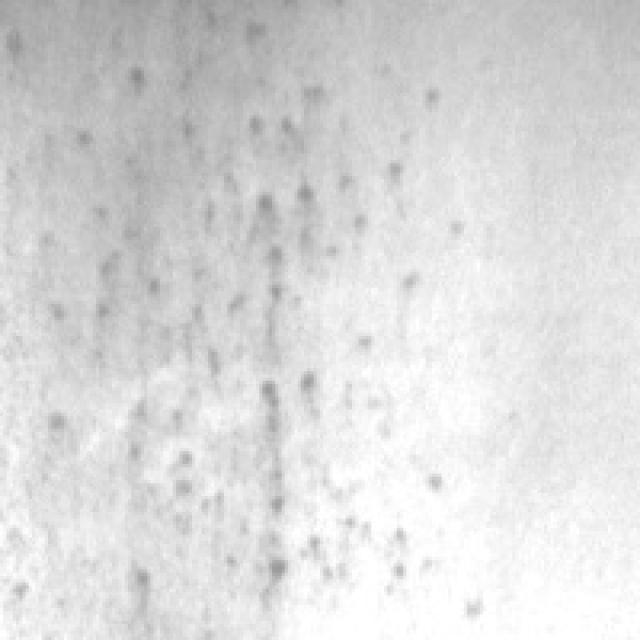pitted_surface: (77, 64, 445, 598)
